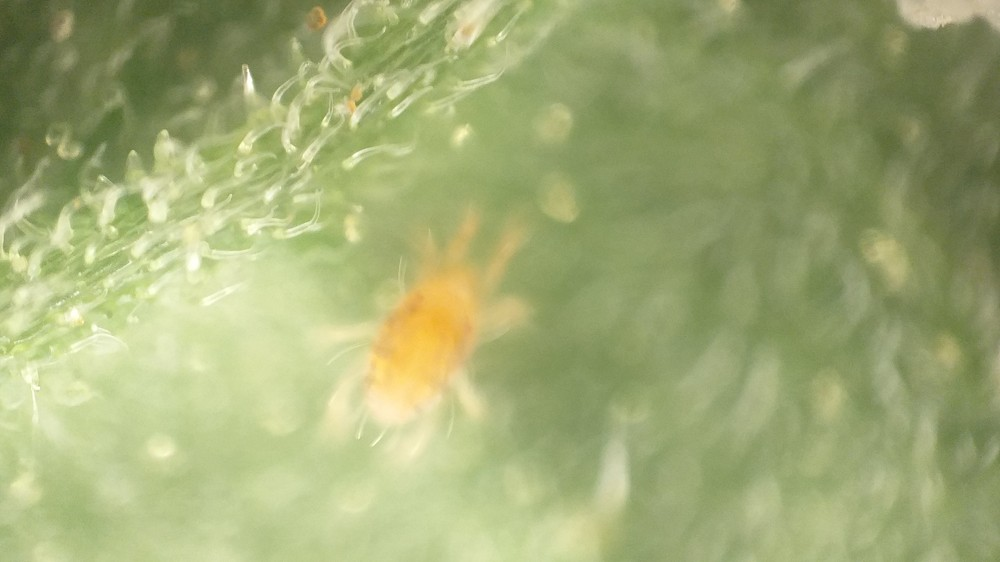Aracnido Rojo: (317, 189, 533, 462)
